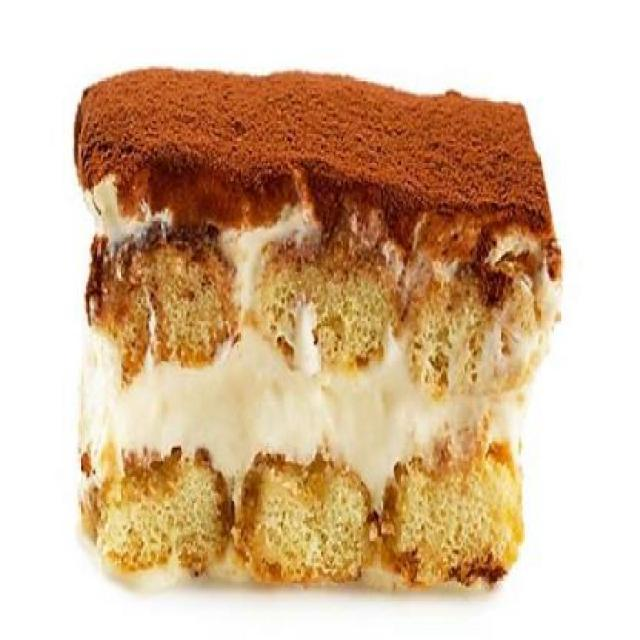Tiramisu: (70, 56, 535, 619)
